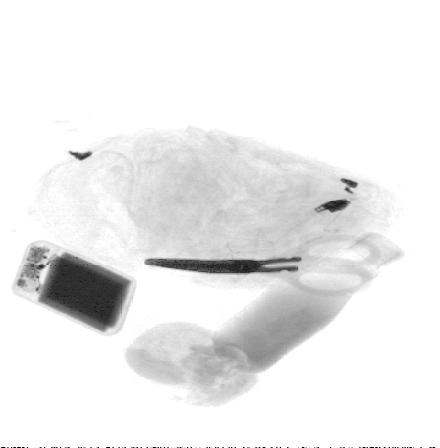Powerbank: (11, 237, 140, 338)
Scissors: (138, 233, 383, 294)
